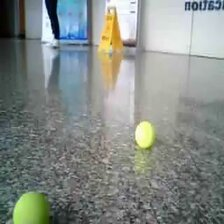tennis: (13, 193, 47, 224), (135, 121, 154, 148)
